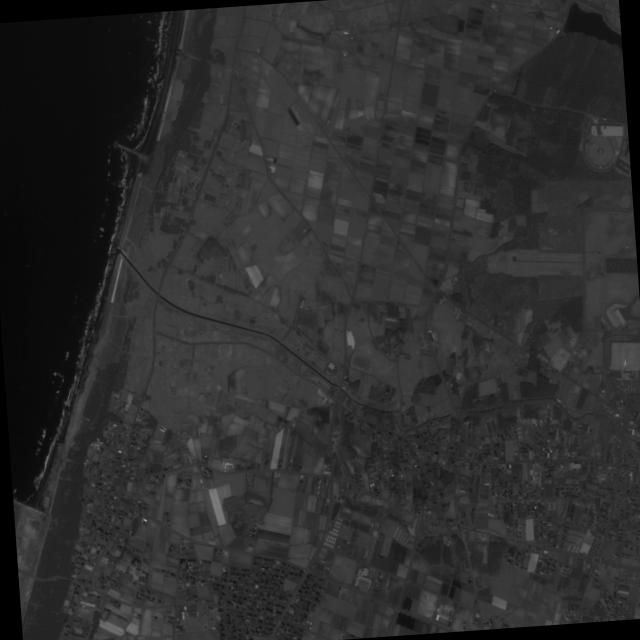plane: (612, 148, 619, 156), (621, 357, 627, 366)
